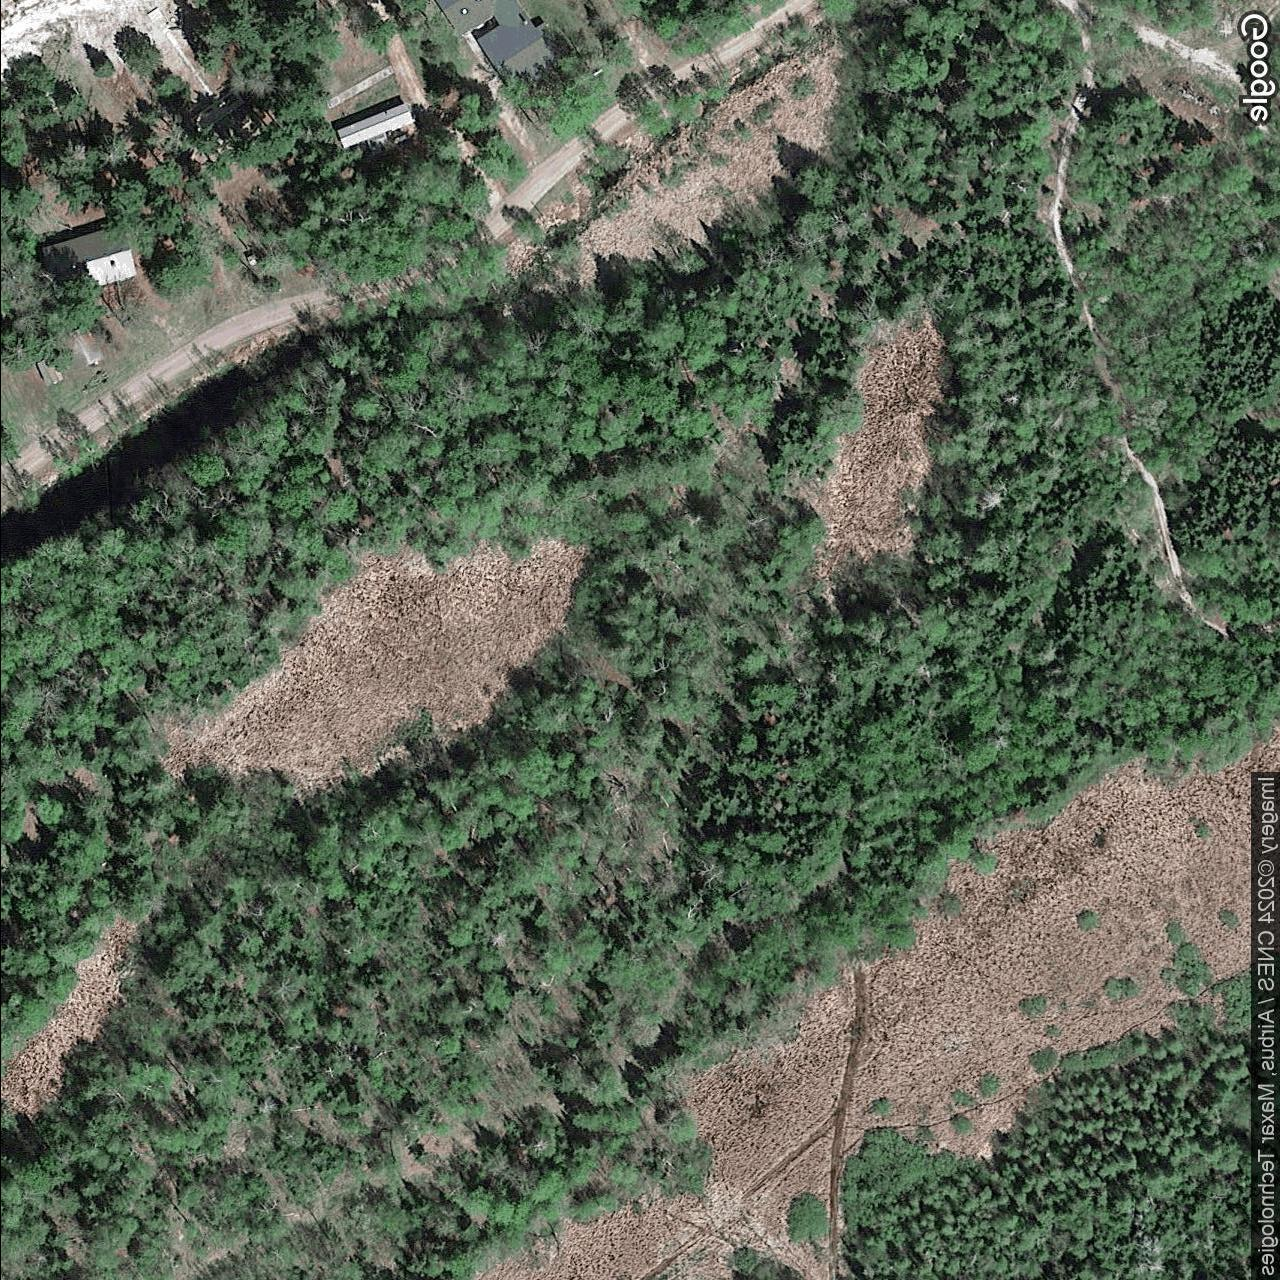House: (431, 0, 559, 98), (41, 223, 138, 300)
Trailer: (335, 101, 415, 149)
